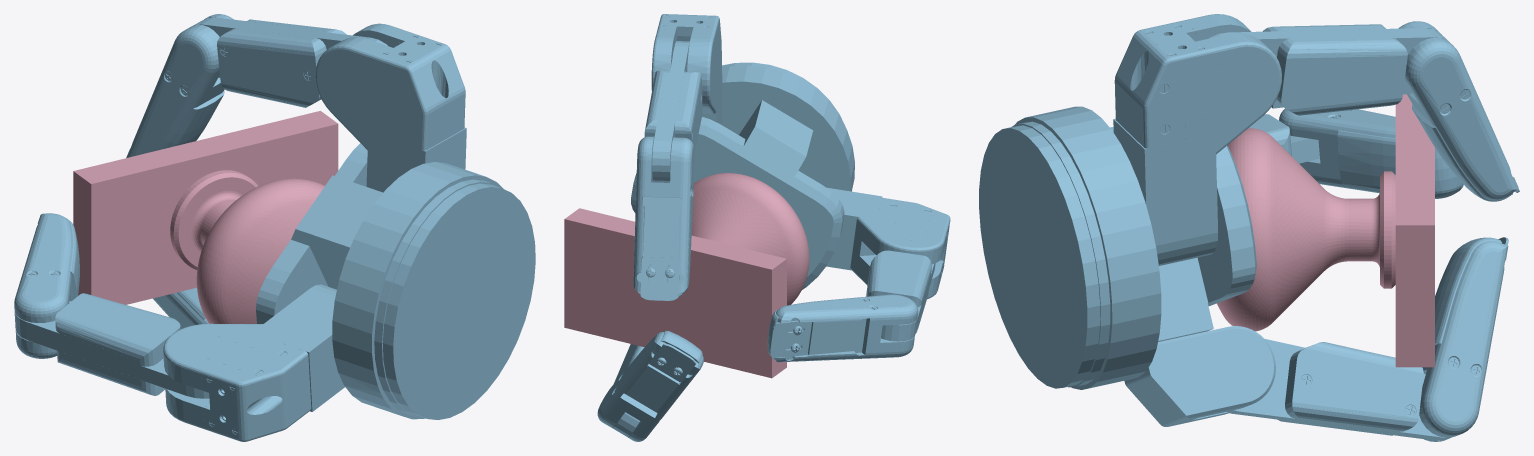
3 views of the same model, side by side, from view 1: azimuth 30°, elevation 25°; view 2: azimuth 150°, elevation 25°; view 3: azimuth 270°, elevation 25° (orthographic). The views are drawn at different scales.
Visible parts, largest first — view 1: world; view 2: world; view 3: world.
Boxes of the visible parts, x1,y1,x2,y2 form: world: (14, 14, 535, 441); world: (564, 14, 950, 441); world: (979, 14, 1519, 441).
Size of the model in its own units: 0.1686 by 0.1533 by 0.1727.
